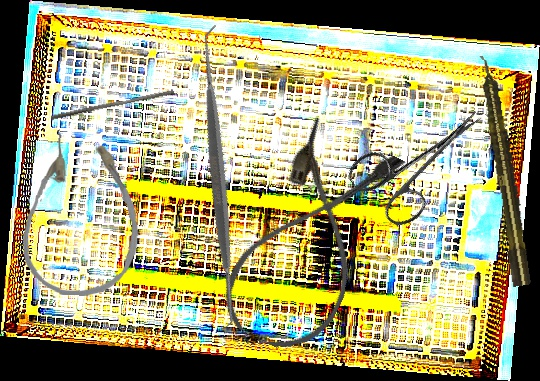Cannula: (210, 114, 412, 365), (19, 131, 144, 299)
Handpiece: (474, 53, 534, 288)
Iris Scissors: (342, 81, 505, 236)
Pusher: (50, 85, 175, 125)
Spatula Surgical: (65, 23, 373, 332)
